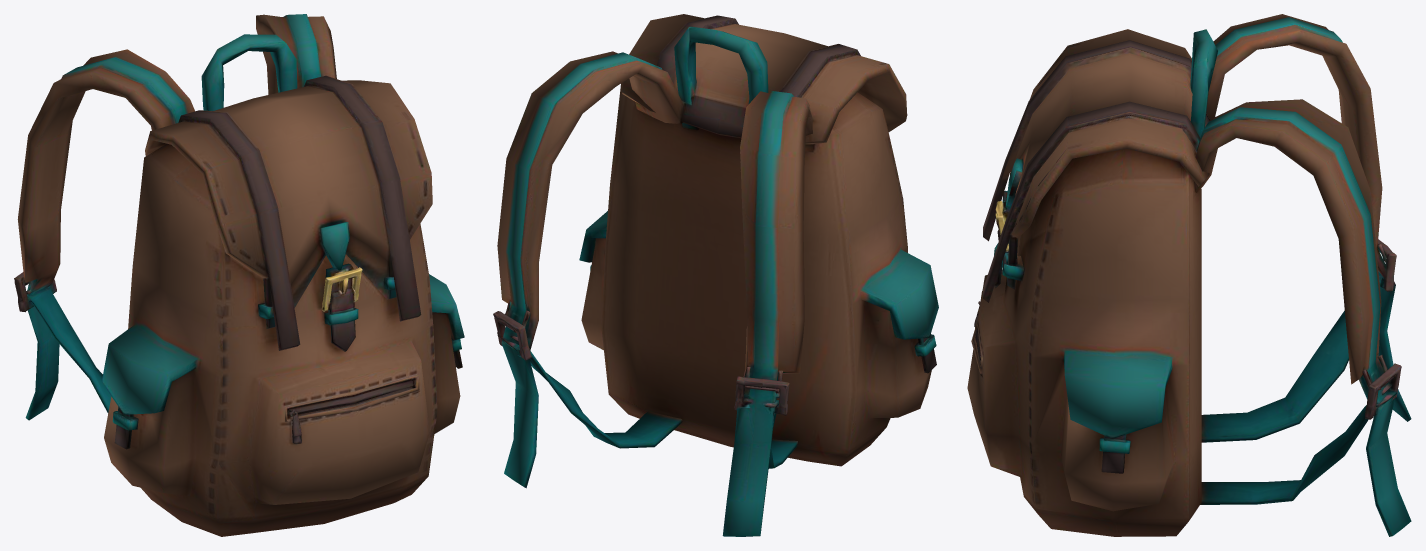
The picture shows the model from 3 angles, left to right: view 1: azimuth 30°, elevation 25°; view 2: azimuth 150°, elevation 25°; view 3: azimuth 270°, elevation 25°; orthographic projection. The views are drawn at different scales.
Visible parts, largest first — view 1: tripo_node_0545f089-922d-478e-b5ab-c5d086882217; view 2: tripo_node_0545f089-922d-478e-b5ab-c5d086882217; view 3: tripo_node_0545f089-922d-478e-b5ab-c5d086882217.
Boxes of the visible parts, x1,y1,x2,y2 form: tripo_node_0545f089-922d-478e-b5ab-c5d086882217: (14,14,464,536); tripo_node_0545f089-922d-478e-b5ab-c5d086882217: (493,14,938,536); tripo_node_0545f089-922d-478e-b5ab-c5d086882217: (967,14,1411,536).
Size of the model in its own units: 0.8223 by 0.998 by 0.8926.
Materials: 1 (1 with a texture image).
